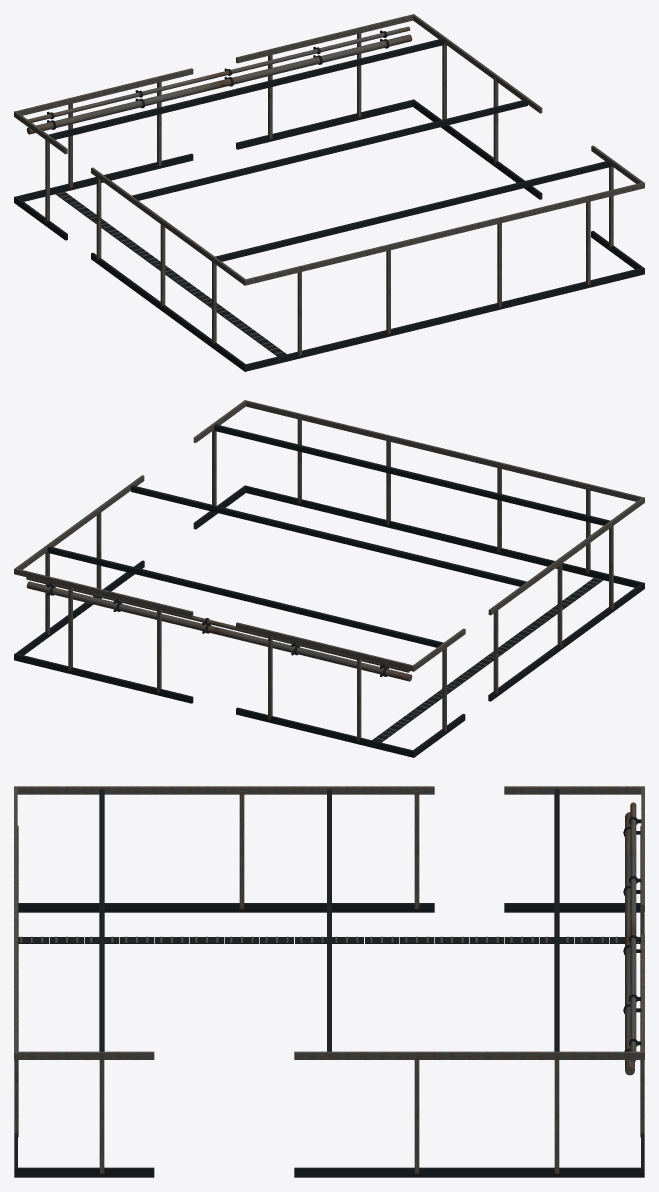
File: ServiceStructure08Yard.obj
3 renders of one model, top to bottom at view 1: azimuth 30°, elevation 25°; view 2: azimuth 150°, elevation 25°; view 3: azimuth 270°, elevation 25°, orthographic. The views are drawn at different scales.
Parts seen in each view (by area): view 1: ServiceStructure08Yard; view 2: ServiceStructure08Yard; view 3: ServiceStructure08Yard.
Part boxes in pixels (x1,y1,x2,y2): ServiceStructure08Yard: (14,14,644,371); ServiceStructure08Yard: (14,400,644,757); ServiceStructure08Yard: (14,786,644,1177).
Size of the model in its own units: 18.02 by 3.93 by 18.02.
3 materials, 2 textured.
